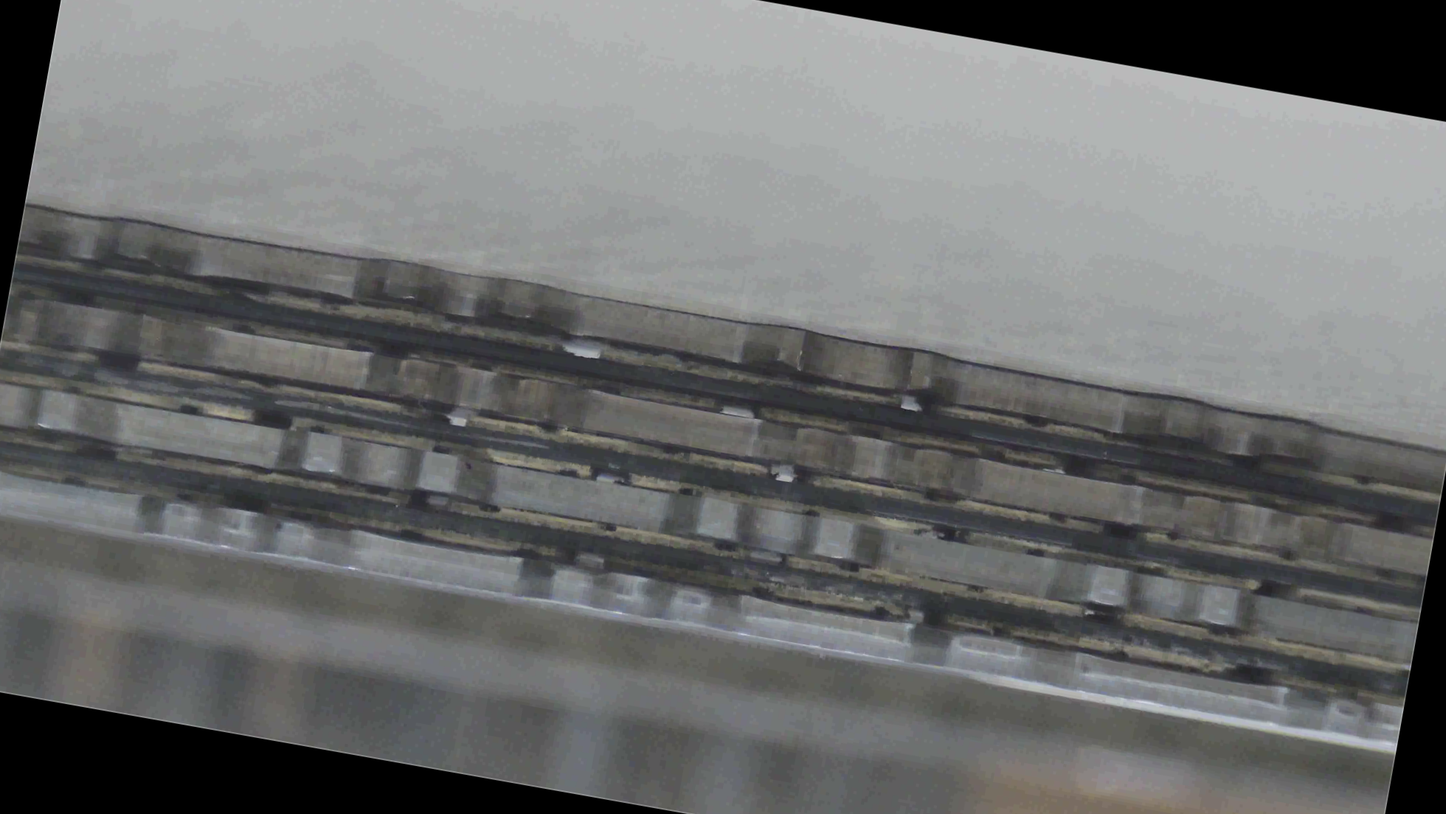Black metal plate: (19, 206, 1446, 491)
shiney metal plate: (37, 208, 1438, 552), (0, 163, 1440, 238), (4, 264, 1445, 318)
spacer: (18, 215, 1446, 452), (2, 356, 1445, 485), (3, 543, 1445, 600)
